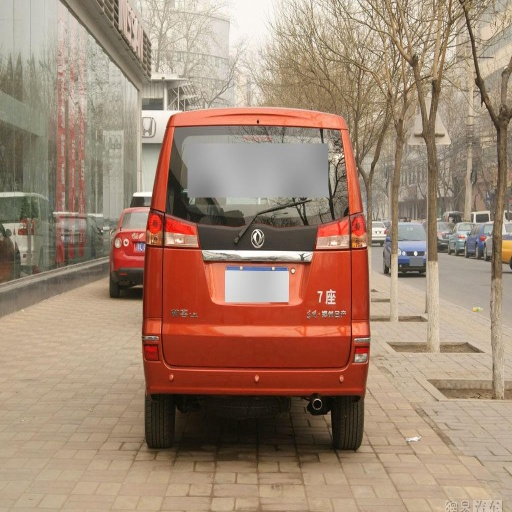trunk: (161, 127, 359, 360)
